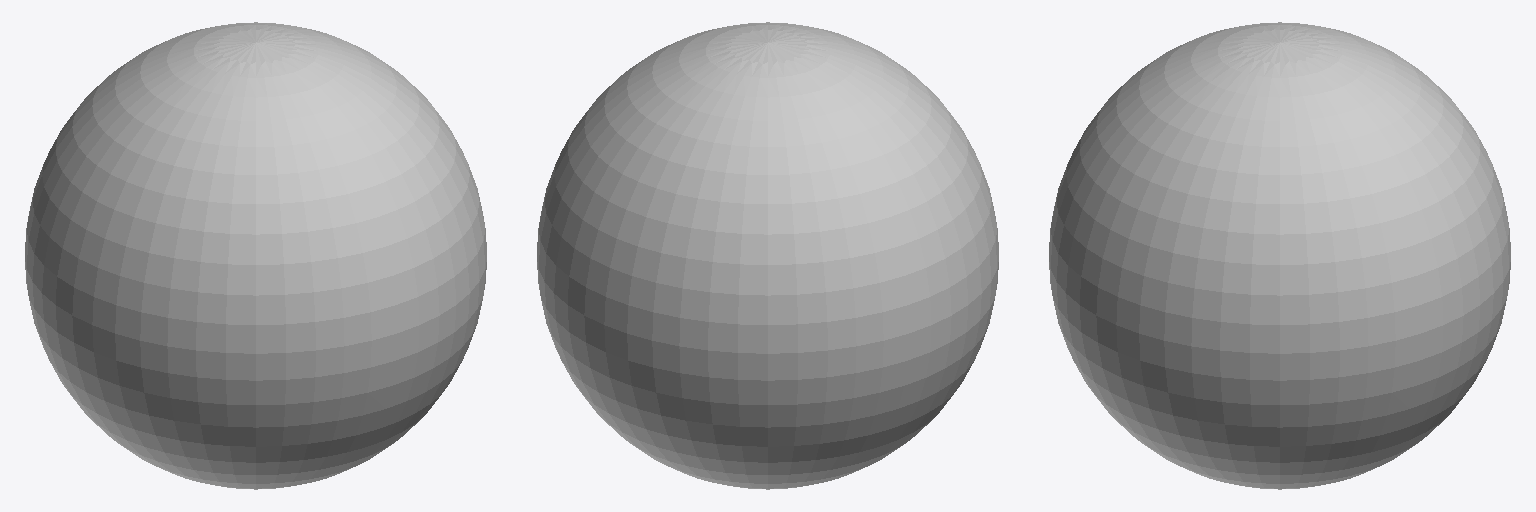
The model's file is cannon_ball.obj.
3 views of the same model, side by side, from view 1: azimuth 30°, elevation 25°; view 2: azimuth 150°, elevation 25°; view 3: azimuth 270°, elevation 25° (orthographic).
Parts seen in each view (by area): view 1: Sphere.013_Sphere.016; view 2: Sphere.013_Sphere.016; view 3: Sphere.013_Sphere.016.
Boxes of the visible parts, x1=… form: Sphere.013_Sphere.016: x1=25, y1=22, x2=486, y2=489; Sphere.013_Sphere.016: x1=537, y1=22, x2=998, y2=489; Sphere.013_Sphere.016: x1=1049, y1=22, x2=1510, y2=489.
Bounding box in the file's own units: 0.4496 × 0.4575 × 0.4496.